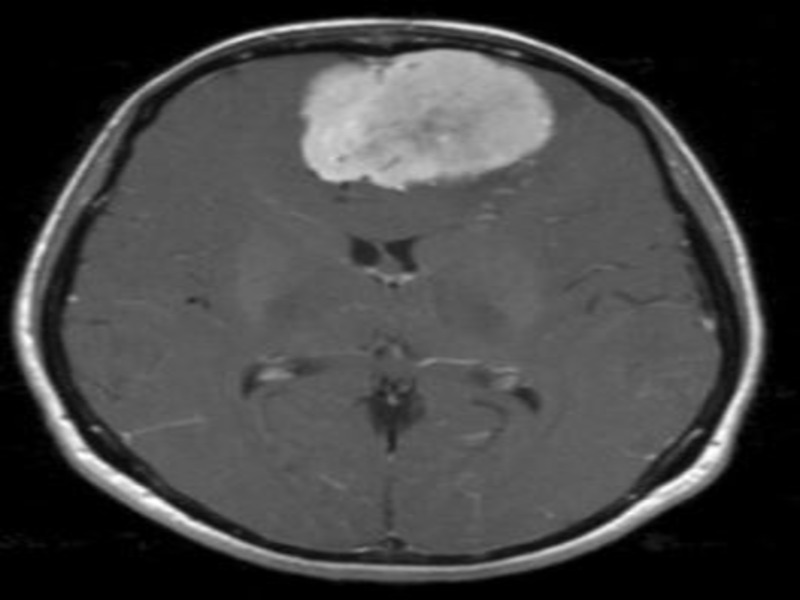tumor: (299, 50, 555, 204)
